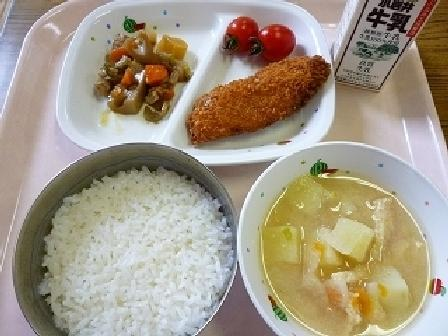Cherry tomatoes: (213, 9, 301, 57)
Milk: (322, 0, 442, 87)
Rice: (27, 146, 235, 332)
Soups: (251, 146, 447, 334)
cooked food meat with vegetables: (91, 20, 188, 114)
cutlet: (188, 57, 333, 149)
